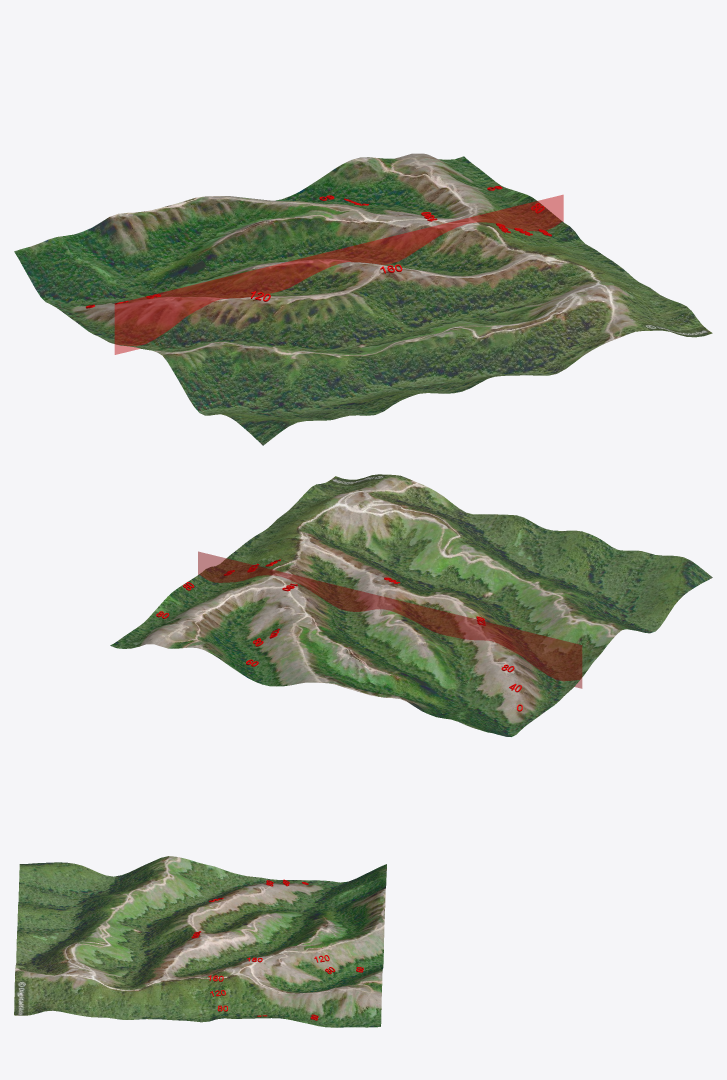
File: adrianopolis2a.gltf
3 renders of one model, top to bottom at view 1: azimuth 30°, elevation 25°; view 2: azimuth 150°, elevation 25°; view 3: azimuth 270°, elevation 25°, orthographic. The views are drawn at different scales.
Parts seen in each view (by area): view 1: root; view 2: root; view 3: root.
Boxes of the visible parts, box(x1,y1,x2,y2) form: root: box(14, 153, 712, 445); root: box(110, 474, 712, 736); root: box(14, 856, 386, 1027).
Bounding box in the file's own units: 2706 × 235 × 3788.
Materials: 4 (1 with a texture image).
